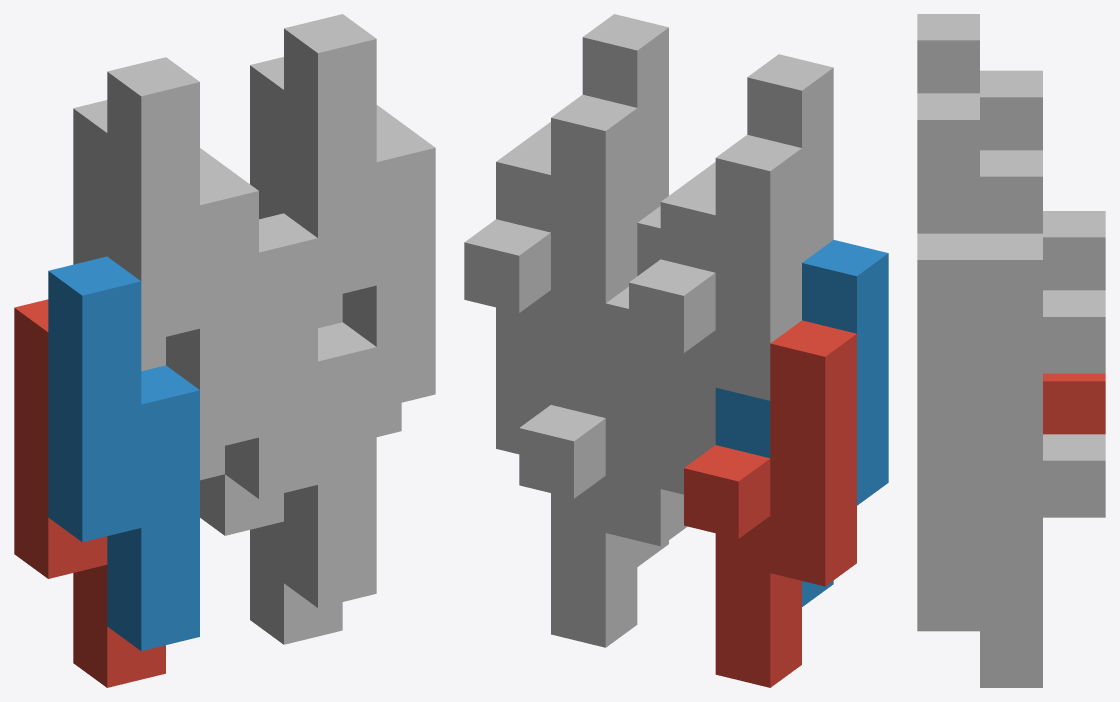
Rendered from tiling.obj.
3 renders of one model, left to right at view 1: azimuth 30°, elevation 25°; view 2: azimuth 150°, elevation 25°; view 3: azimuth 270°, elevation 25°, orthographic. The views are drawn at different scales.
Visible parts, largest first — view 1: copy_1_domain_2, copy_1_domain_8, copy_1_domain_4, copy_1_domain_6, copy_1_domain_1, copy_1_domain_5, copy_1_domain_3, copy_1_domain_7; view 2: copy_1_domain_1, copy_1_domain_3, copy_1_domain_7, copy_1_domain_5, copy_1_domain_2, copy_1_domain_4, copy_1_domain_8, copy_1_domain_6; view 3: copy_1_domain_8, copy_1_domain_7, copy_1_domain_5, copy_1_domain_3, copy_1_domain_6, copy_1_domain_4, copy_1_domain_1.
Part boxes in pixels (left/top/right/bottom): copy_1_domain_2: left=48, top=256, right=199, bottom=651; copy_1_domain_8: left=284, top=14, right=435, bottom=408; copy_1_domain_4: left=107, top=57, right=258, bottom=451; copy_1_domain_6: left=225, top=213, right=376, bottom=607; copy_1_domain_1: left=14, top=299, right=165, bottom=687; copy_1_domain_5: left=200, top=474, right=342, bottom=644; copy_1_domain_3: left=73, top=100, right=224, bottom=480; copy_1_domain_7: left=250, top=57, right=401, bottom=436; copy_1_domain_1: left=684, top=320, right=856, bottom=687; copy_1_domain_3: left=629, top=134, right=801, bottom=494; copy_1_domain_7: left=464, top=94, right=637, bottom=454; copy_1_domain_5: left=519, top=286, right=687, bottom=647; copy_1_domain_2: left=715, top=240, right=888, bottom=606; copy_1_domain_4: left=660, top=54, right=833, bottom=272; copy_1_domain_8: left=496, top=14, right=668, bottom=232; copy_1_domain_6: left=551, top=206, right=668, bottom=566; copy_1_domain_8: left=917, top=93, right=1042, bottom=487; copy_1_domain_7: left=980, top=150, right=1105, bottom=543; copy_1_domain_5: left=980, top=434, right=1105, bottom=687; copy_1_domain_3: left=980, top=70, right=1105, bottom=290; copy_1_domain_6: left=917, top=487, right=979, bottom=631; copy_1_domain_4: left=917, top=14, right=979, bottom=93; copy_1_domain_1: left=1043, top=373, right=1105, bottom=434.
Size of the model in its own units: 6 by 10 by 3.
